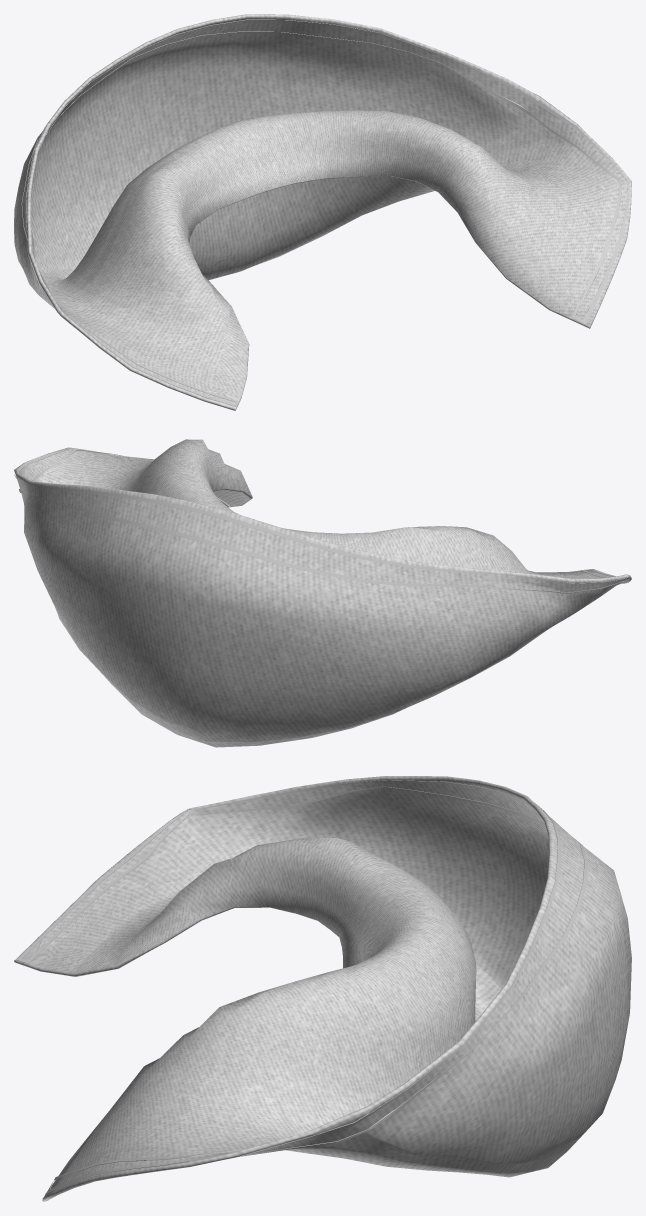
File: Hood2.glb
3 views of the same model, one above another, from view 1: azimuth 30°, elevation 25°; view 2: azimuth 150°, elevation 25°; view 3: azimuth 270°, elevation 25° (orthographic). The views are drawn at different scales.
Parts seen in each view (by area): view 1: Hood21, Rope1; view 2: Hood21, Rope1; view 3: Hood21, Rope1.
Part boxes in pixels (left/top/right/bottom): Hood21: left=14, top=14, right=631, bottom=410; Rope1: left=21, top=19, right=629, bottom=406; Hood21: left=14, top=439, right=631, bottom=747; Rope1: left=14, top=447, right=629, bottom=593; Hood21: left=14, top=776, right=631, bottom=1201; Rope1: left=17, top=780, right=587, bottom=1194.
Size of the model in its own units: 0.5786 by 0.2363 by 0.4383.
Materials: 2 (2 with a texture image).
